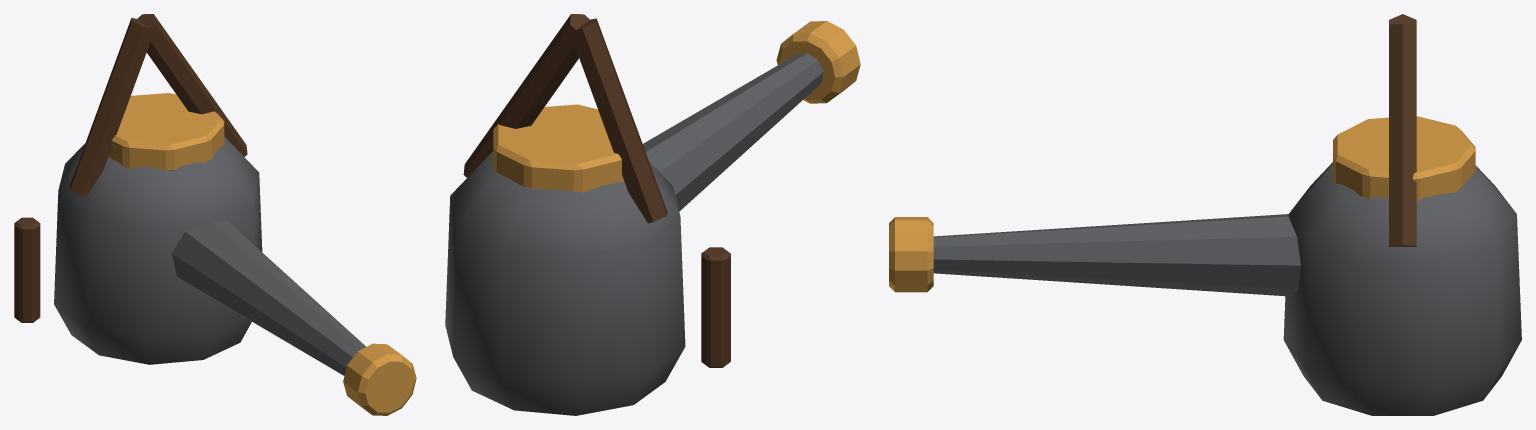
The model's file is tool_watering_can_long_spout_a.glb.
3 renders of one model, left to right at view 1: azimuth 30°, elevation 25°; view 2: azimuth 150°, elevation 25°; view 3: azimuth 270°, elevation 25°, orthographic. The views are drawn at different scales.
Parts seen in each view (by area): view 1: equipment_can_body, equipment_can_arch_a, equipment_can_lid; view 2: equipment_can_body, equipment_can_arch_a, equipment_can_lid; view 3: equipment_can_body, equipment_can_lid, equipment_can_arch_a.
Part boxes in pixels (x1=…): equipment_can_body: x1=54, y1=136, x2=365, y2=375; equipment_can_arch_a: x1=14, y1=14, x2=247, y2=322; equipment_can_lid: x1=108, y1=93, x2=416, y2=415; equipment_can_body: x1=445, y1=53, x2=823, y2=415; equipment_can_arch_a: x1=463, y1=14, x2=730, y2=367; equipment_can_lid: x1=493, y1=21, x2=860, y2=192; equipment_can_body: x1=933, y1=162, x2=1521, y2=415; equipment_can_lid: x1=889, y1=116, x2=1475, y2=292; equipment_can_arch_a: x1=1389, y1=14, x2=1416, y2=246.
Size of the model in its own units: 0.298 by 0.3886 by 0.6375.
